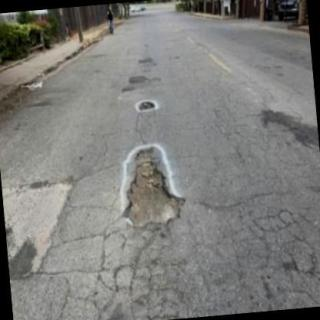pothole: (122, 161, 179, 228), (135, 99, 157, 112)
